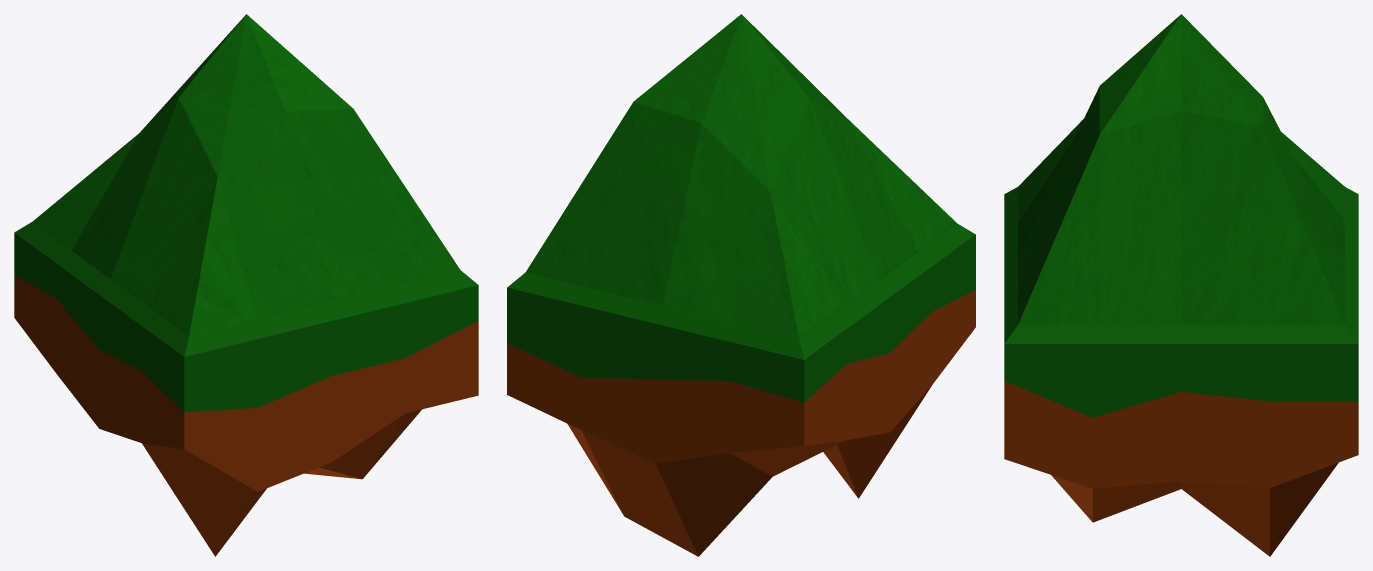
File: mountain platform.glb
3 renders of one model, left to right at view 1: azimuth 30°, elevation 25°; view 2: azimuth 150°, elevation 25°; view 3: azimuth 270°, elevation 25°, orthographic. The views are drawn at different scales.
Parts seen in each view (by area): view 1: platform; view 2: platform; view 3: platform.
Part boxes in pixels (x1,y1,x2,y2): platform: (14, 14, 478, 556); platform: (507, 14, 975, 556); platform: (1004, 14, 1358, 556).
Bounding box in the file's own units: 2 × 3.29 × 2.
2 materials, 1 textured.
